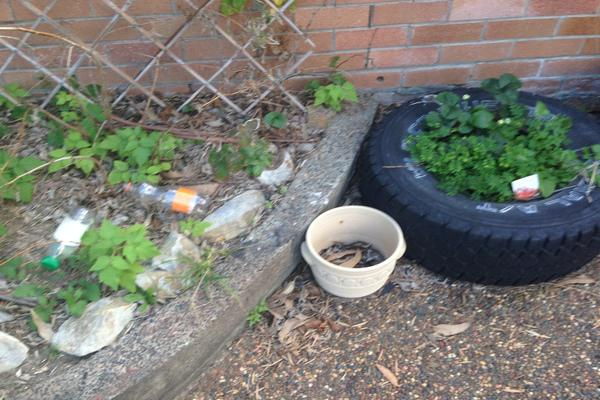Plastic Bottle: (41, 207, 98, 269), (122, 181, 209, 219)
